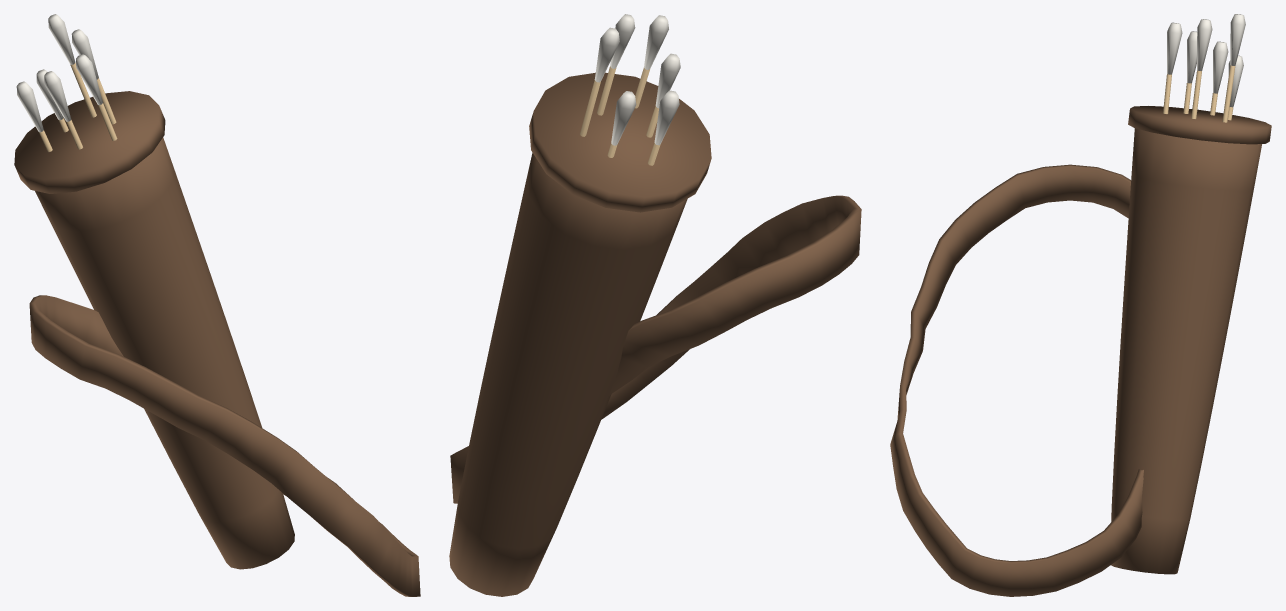
File: Archer_Quiver.fbx
The picture shows the model from 3 angles, left to right: view 1: azimuth 30°, elevation 25°; view 2: azimuth 150°, elevation 25°; view 3: azimuth 270°, elevation 25°; orthographic projection. The views are drawn at different scales.
Visible parts, largest first — view 1: Archer_Quiver; view 2: Archer_Quiver; view 3: Archer_Quiver.
Boxes of the visible parts, box(x1,y1,x2,y2) form: Archer_Quiver: box(14, 14, 420, 596); Archer_Quiver: box(449, 14, 861, 596); Archer_Quiver: box(890, 14, 1271, 596).
Bounding box in the file's own units: 0.4663 × 0.7445 × 0.5176.
